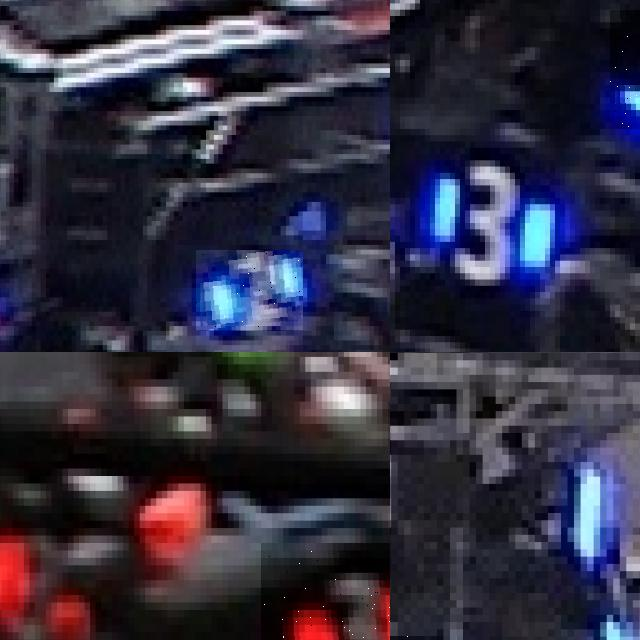B2: (196, 250, 303, 330)
B3: (420, 135, 560, 305)
R3: (261, 543, 390, 640)
